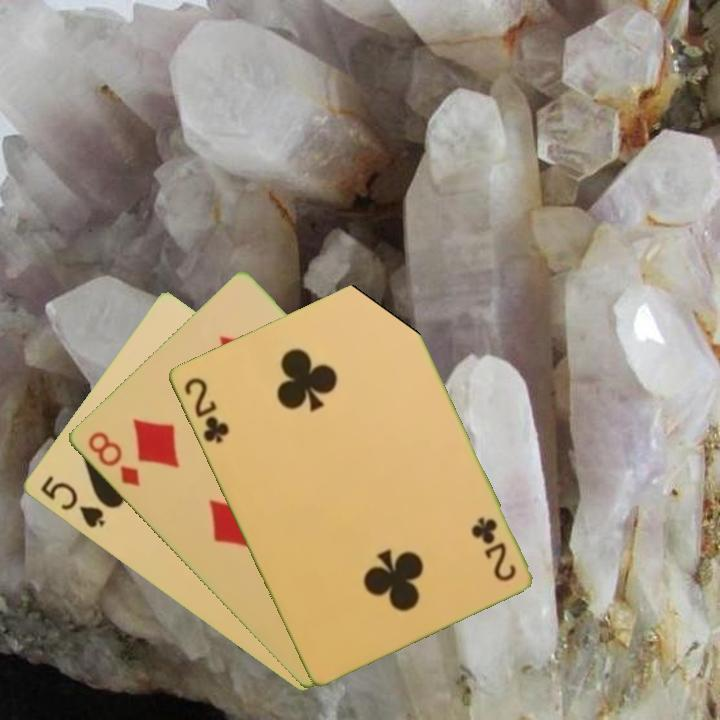2c: (179, 374, 232, 446), (468, 513, 519, 585)
5s: (36, 472, 107, 532)
8d: (83, 428, 142, 490)
